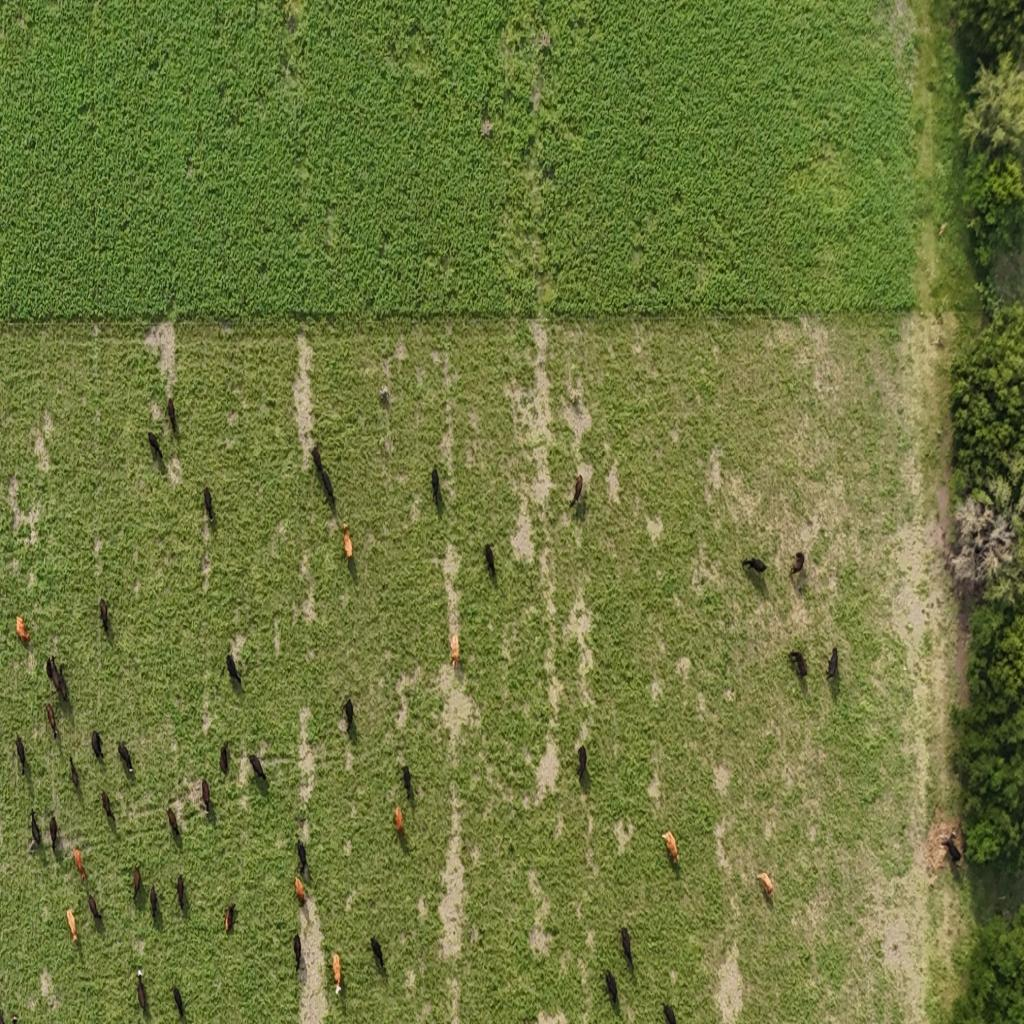cow: (742, 556, 769, 585), (941, 834, 962, 865), (340, 522, 354, 568), (824, 644, 839, 686), (620, 926, 634, 971), (568, 473, 584, 511), (369, 936, 385, 973), (322, 471, 337, 510), (226, 649, 242, 685), (117, 741, 134, 774), (662, 829, 678, 864), (788, 651, 808, 679), (604, 970, 618, 1009), (248, 752, 266, 782), (148, 431, 164, 464), (136, 970, 148, 1014), (756, 871, 774, 899), (16, 614, 32, 643), (790, 549, 806, 578), (296, 838, 308, 876), (30, 810, 42, 848), (73, 847, 86, 882), (431, 467, 442, 508), (45, 702, 57, 739), (66, 907, 78, 944), (402, 764, 414, 801), (172, 985, 185, 1019), (576, 746, 588, 782), (342, 697, 354, 733), (484, 543, 496, 578), (102, 789, 114, 824), (88, 893, 102, 923), (167, 396, 178, 434), (91, 730, 104, 762), (311, 444, 324, 476), (16, 734, 26, 774), (332, 952, 342, 991), (99, 598, 110, 633), (150, 883, 160, 921), (167, 805, 179, 836), (49, 813, 59, 850), (175, 874, 185, 911), (203, 486, 213, 523), (450, 632, 460, 668), (224, 903, 236, 933), (58, 664, 67, 702), (132, 865, 142, 899), (70, 756, 80, 790), (294, 875, 305, 905), (293, 932, 301, 972), (394, 806, 404, 836), (201, 778, 210, 811), (663, 1003, 677, 1024), (220, 743, 229, 775), (52, 658, 60, 692), (46, 656, 52, 683)
